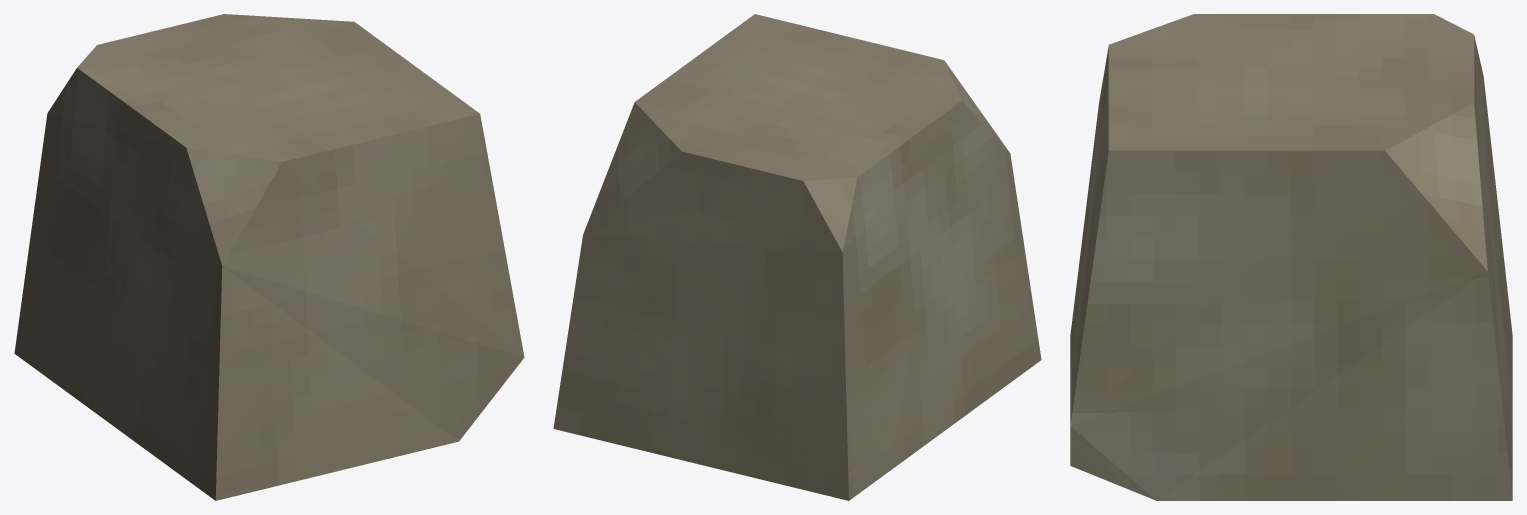
The model's file is rock_small1.fbx.
3 views of the same model, side by side, from view 1: azimuth 30°, elevation 25°; view 2: azimuth 150°, elevation 25°; view 3: azimuth 270°, elevation 25° (orthographic). The views are drawn at different scales.
Parts seen in each view (by area): view 1: rock_small1; view 2: rock_small1; view 3: rock_small1.
Part boxes in pixels (<box>): rock_small1: <box>14,14,524,500</box>; rock_small1: <box>553,14,1041,500</box>; rock_small1: <box>1070,14,1512,500</box>.
Size of the model in its own units: 107 by 101 by 120.
Materials: 1 (1 with a texture image).
